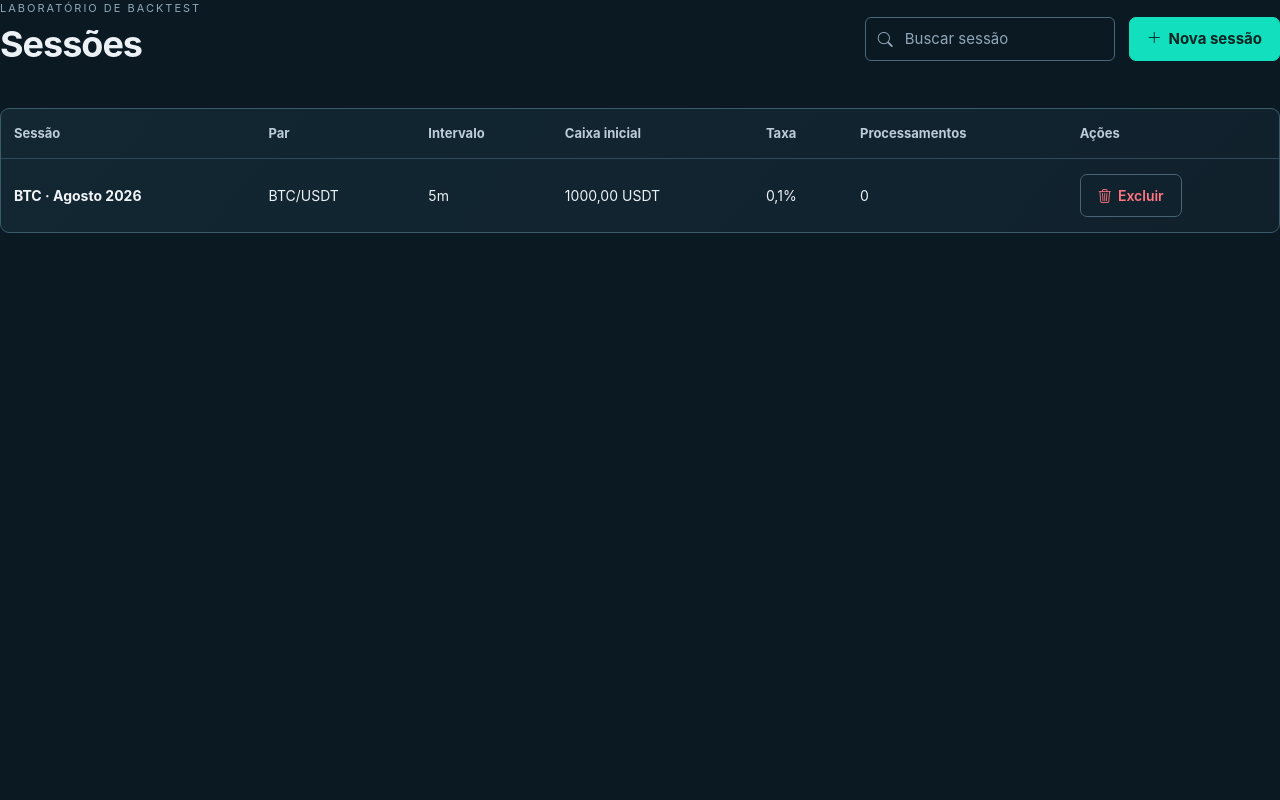
Test case: mantém a confirmação bloqueada durante a consulta e encontra processamentos nas páginas seguintes
The width and height of the screenshot is (1280, 800).
Later steps or results of the test are not shown.
Click the button "Excluir": click(1131, 196) [1080,174,1182,217]
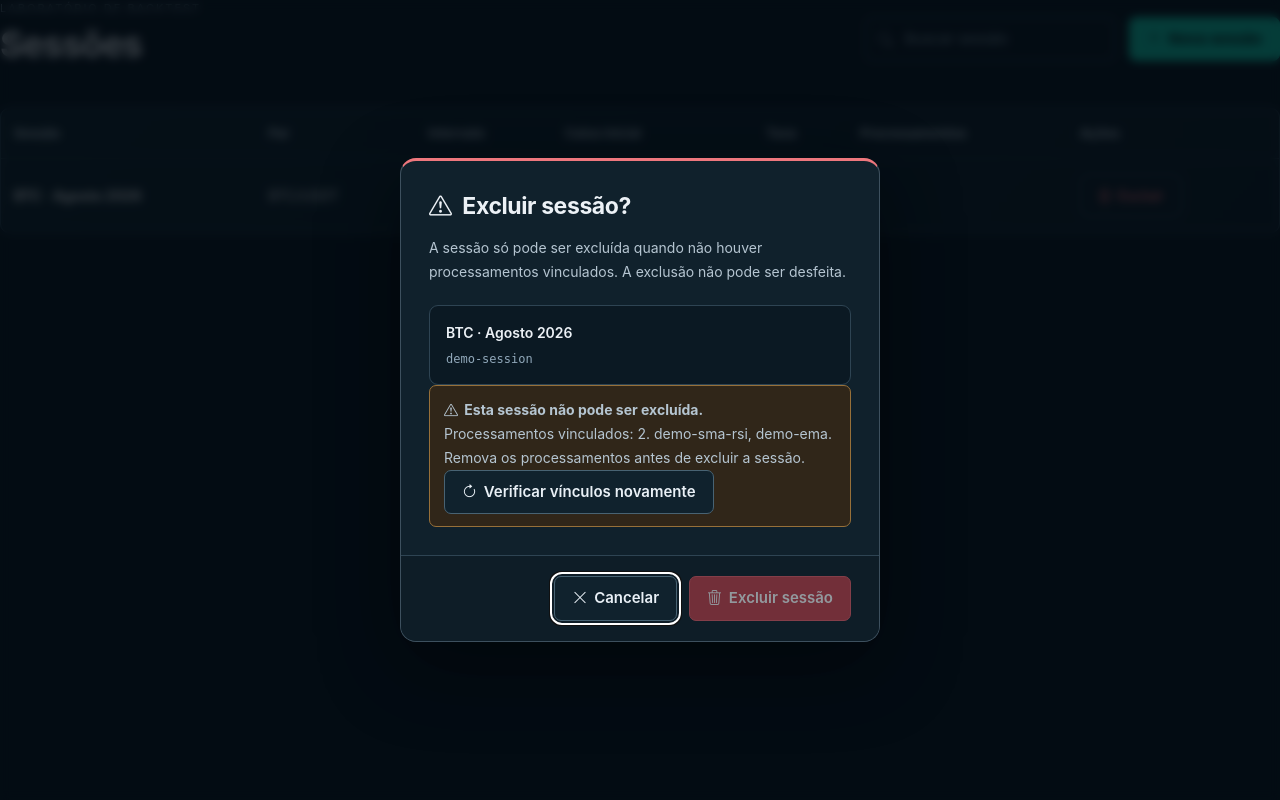
expect the message shows "Processamentos vinculados: 2": met, box [429,385,851,527]
expect the button "Excluir sessão" is disabled: met, box [689,576,851,621]
